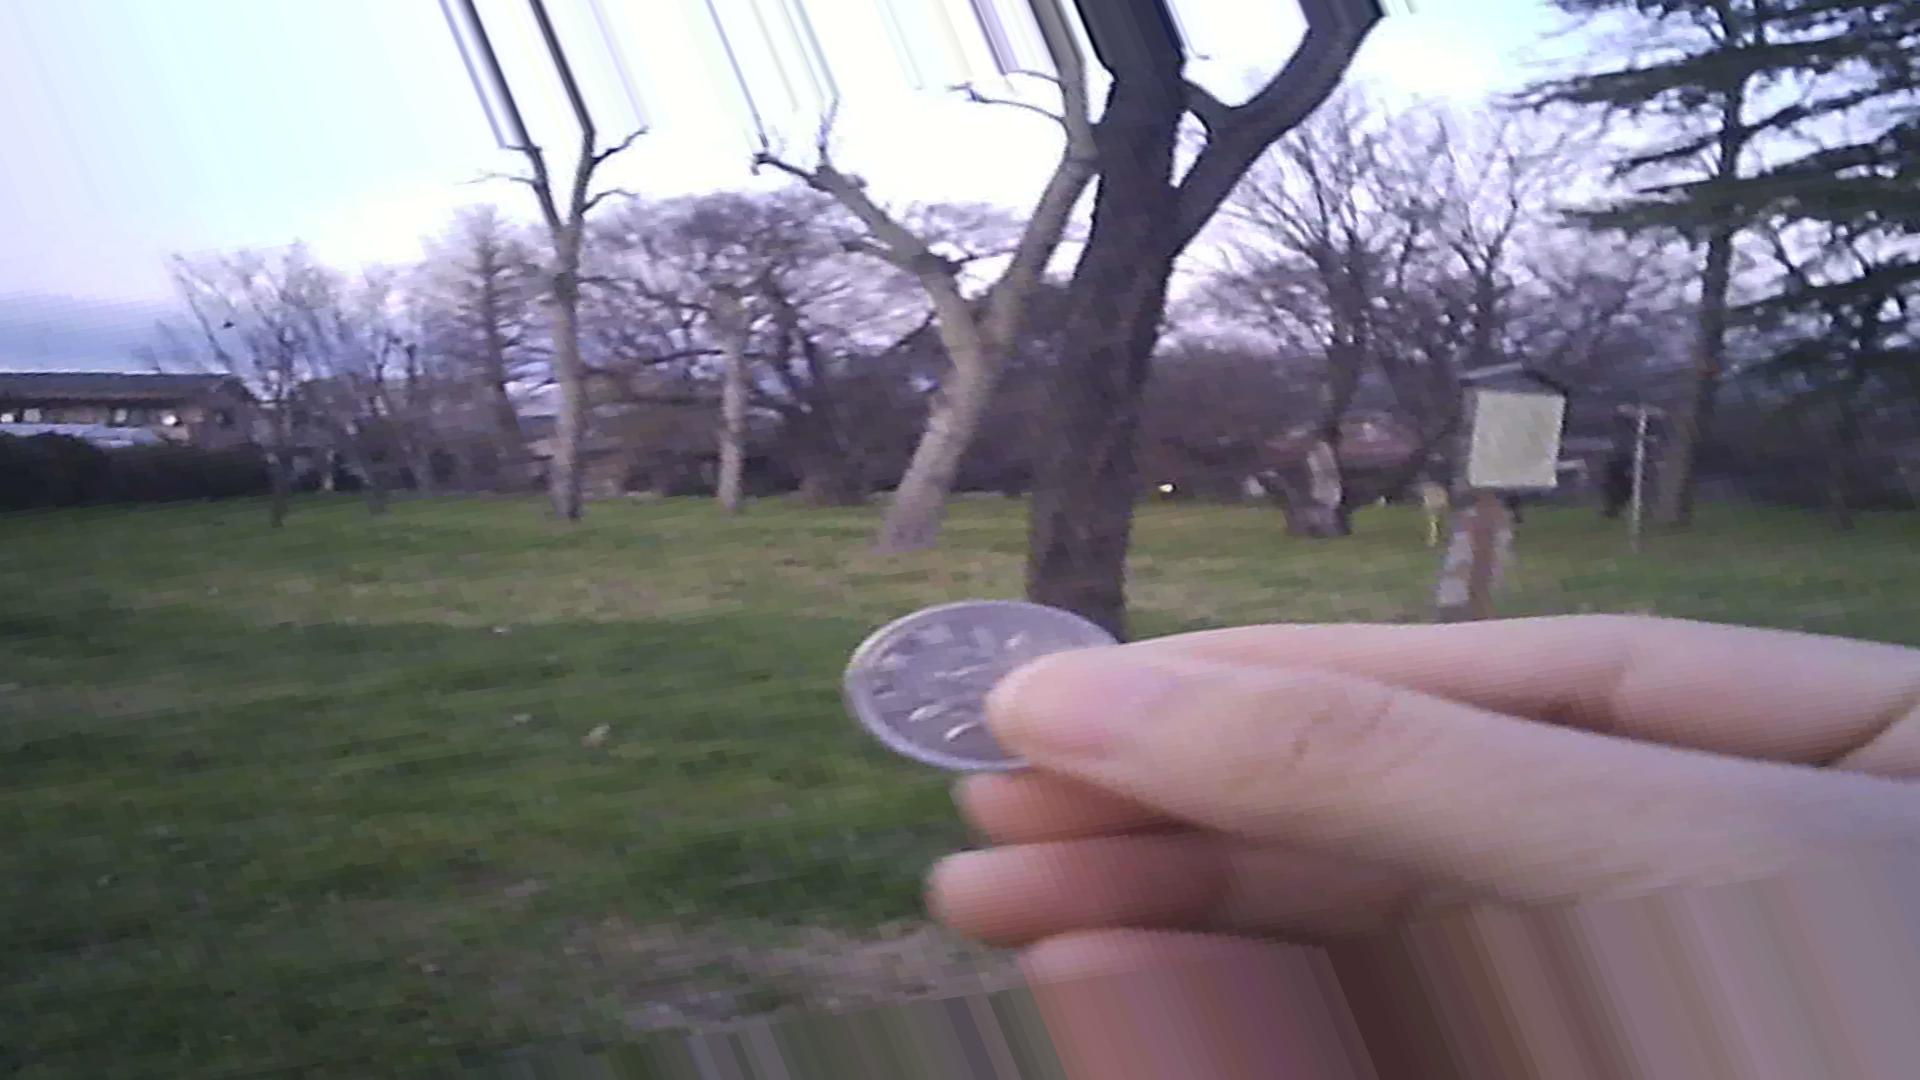1 Yen: (837, 597, 1106, 789)
